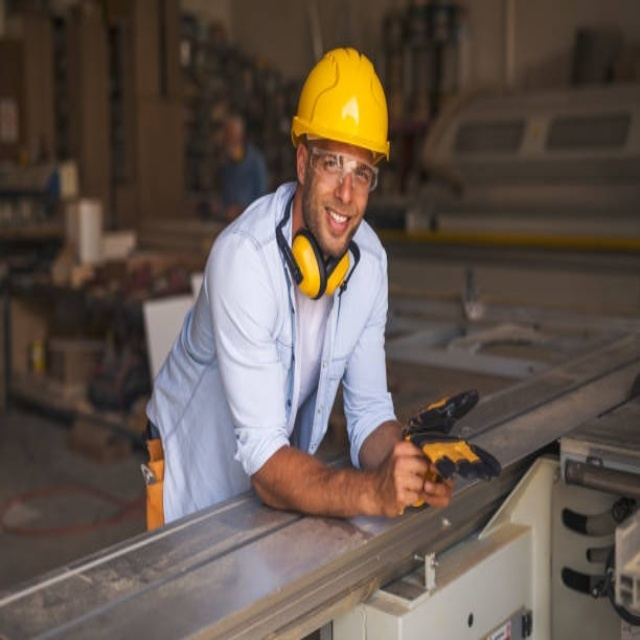Gafas: (308, 143, 379, 196)
Sin_guantes: (379, 439, 447, 517)
Sin_mascara: (321, 204, 350, 243)
